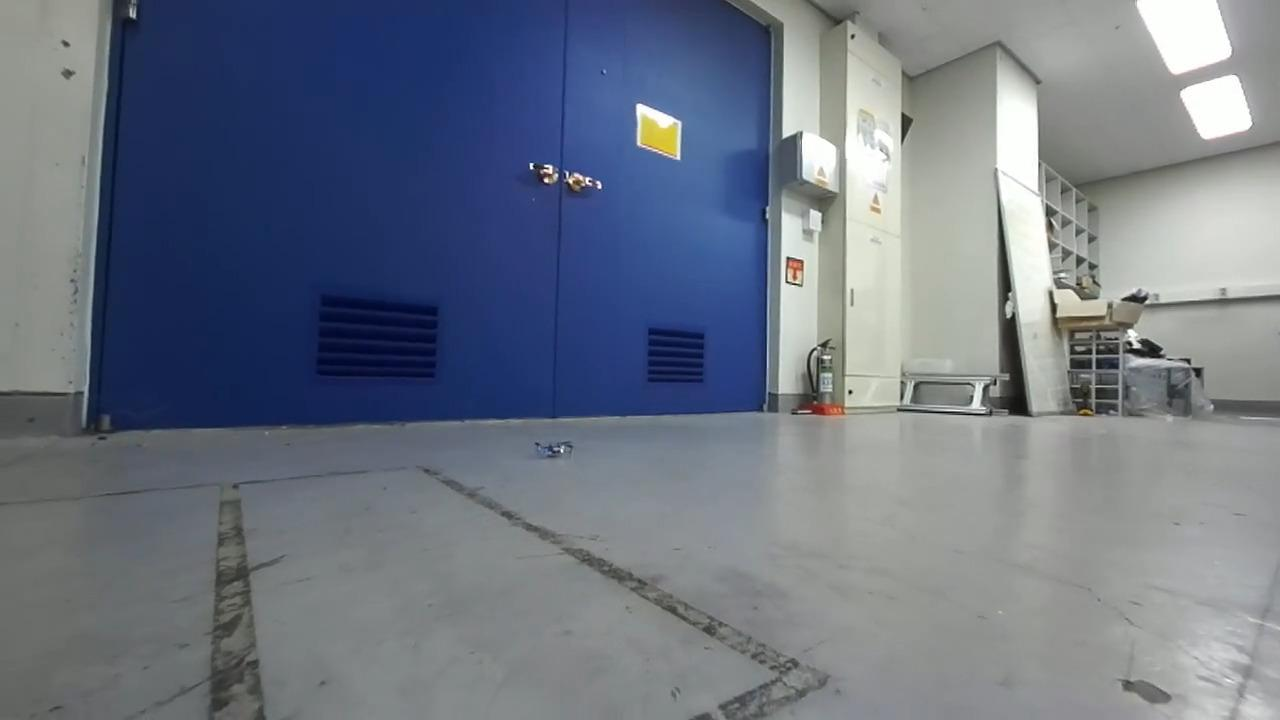crazyflie: (526, 434, 581, 464)
